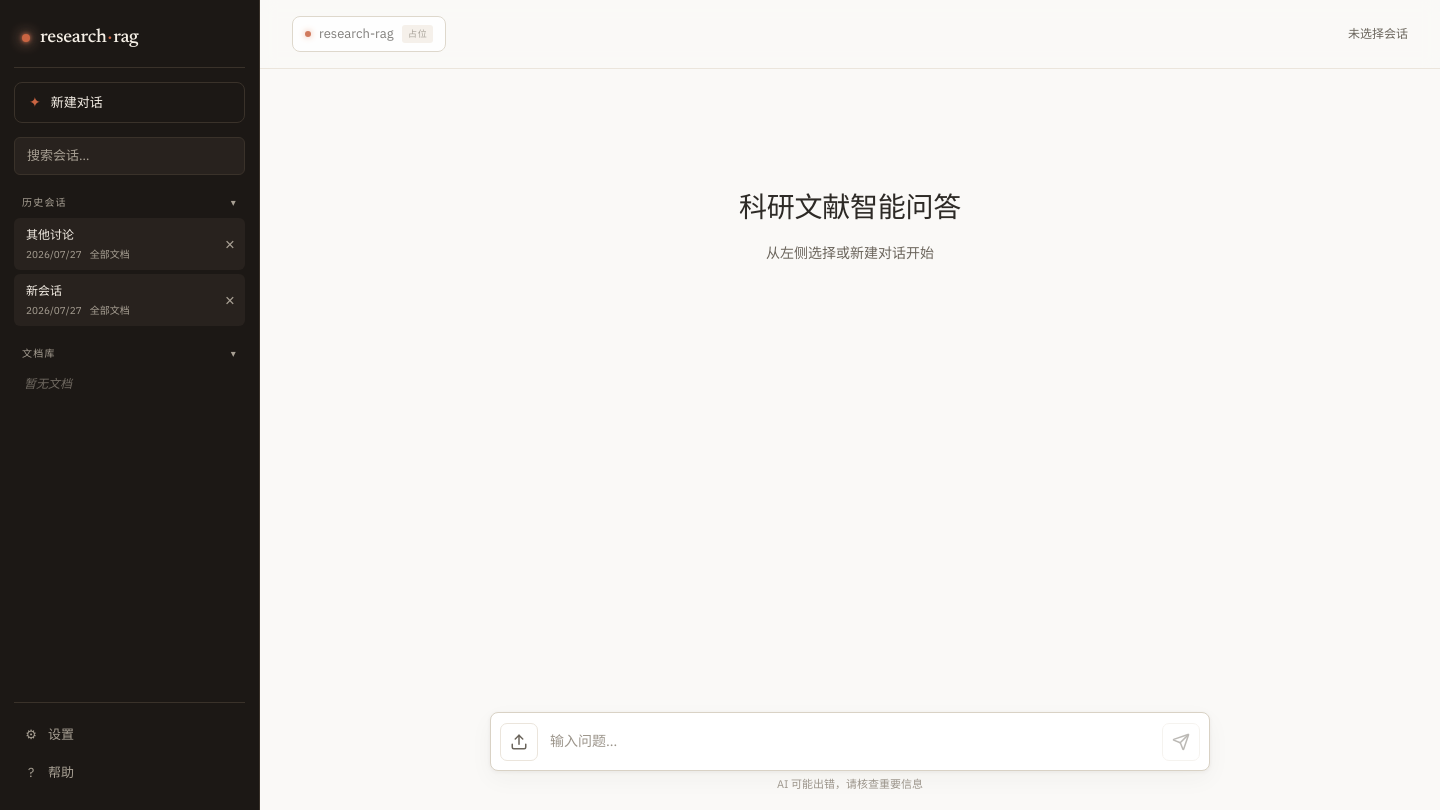
Test: App › 每轮成功持久化后立即刷新会话标题和排序
Click the button "新会话 2026/07/27 全部文档".
click(114, 300)  # box [15, 274, 212, 324]
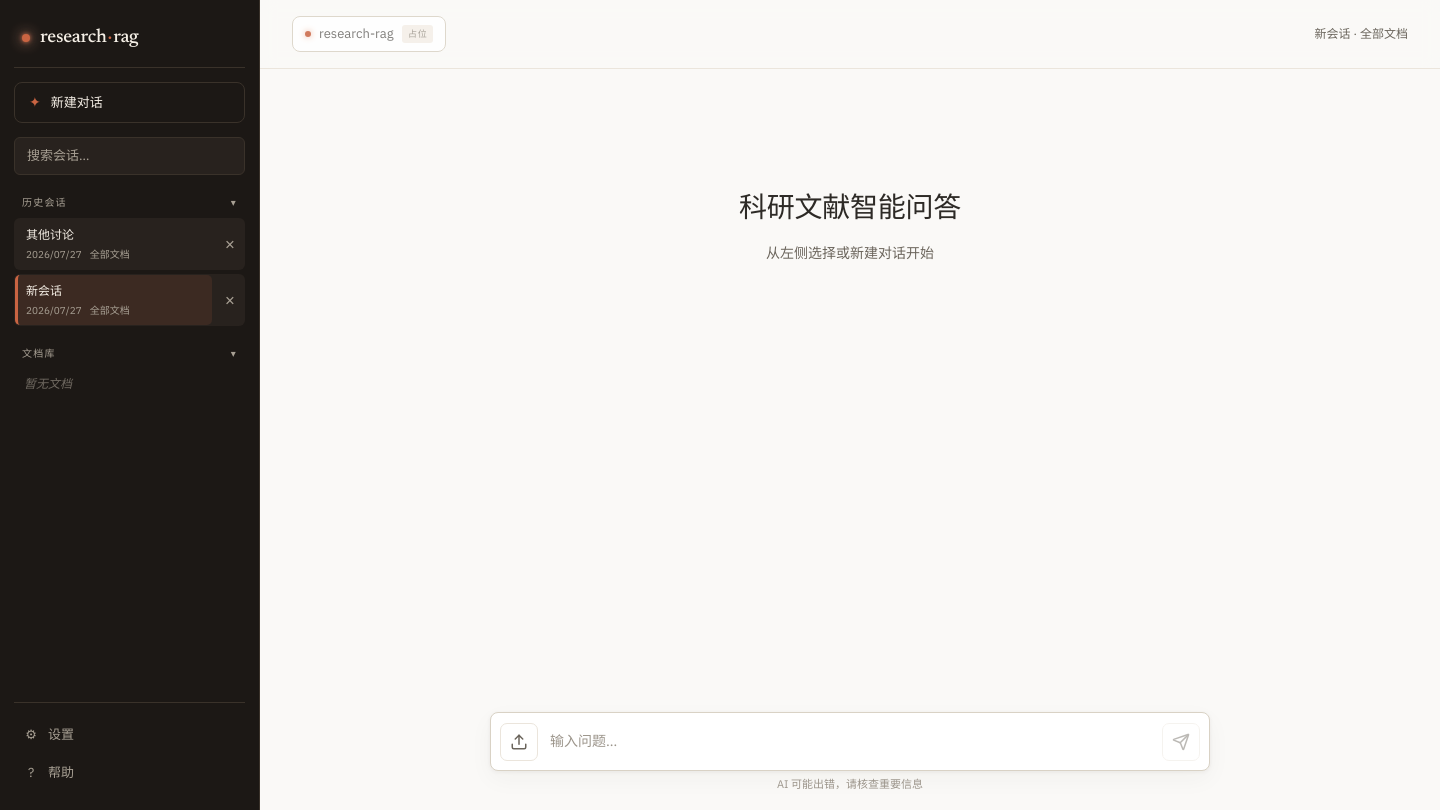
Type "标题问题" into the text box named "问题输入".
click(850, 741); type("标题问题")  # box [546, 722, 1154, 760]
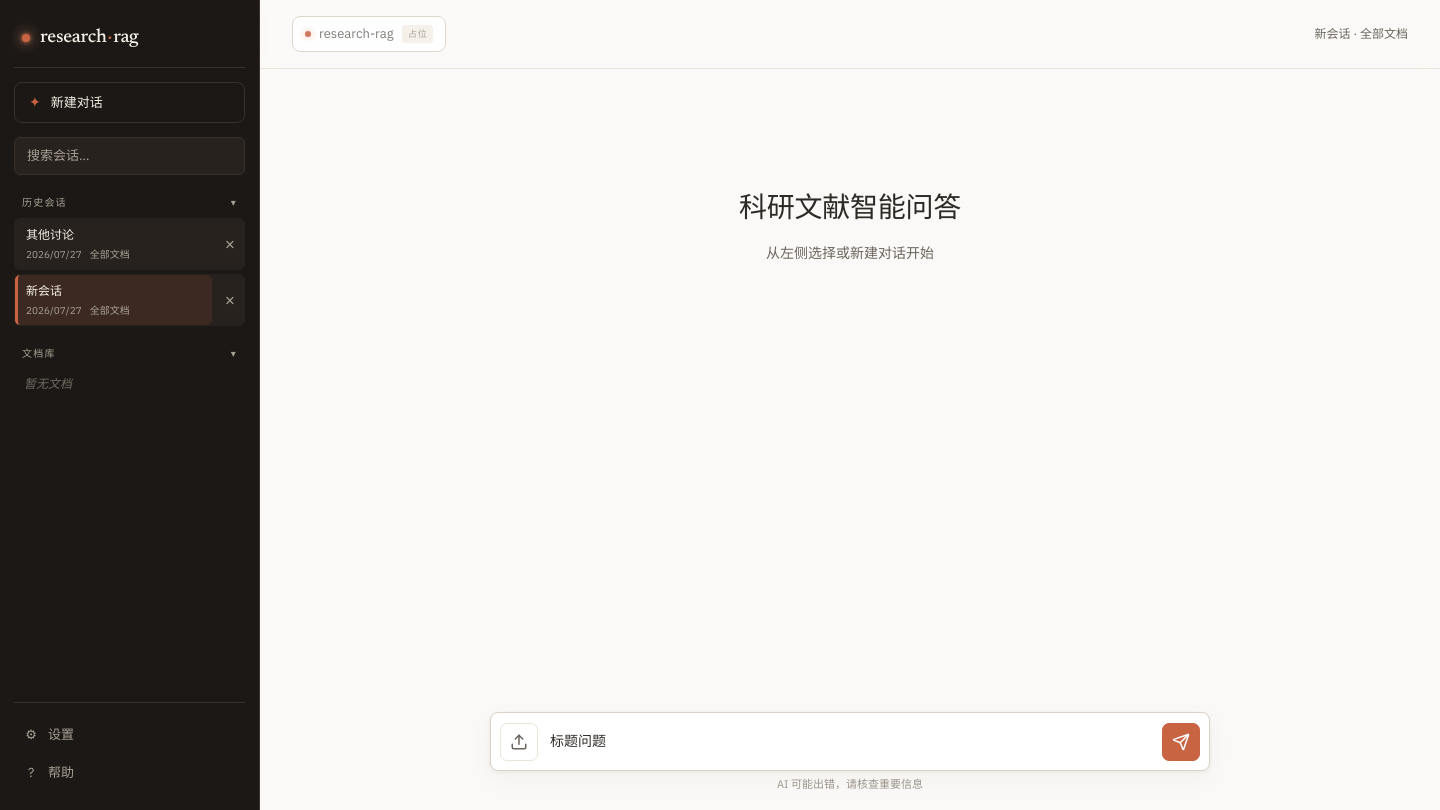
Click the button named "发送".
click(1181, 742)  # box [1162, 722, 1200, 760]
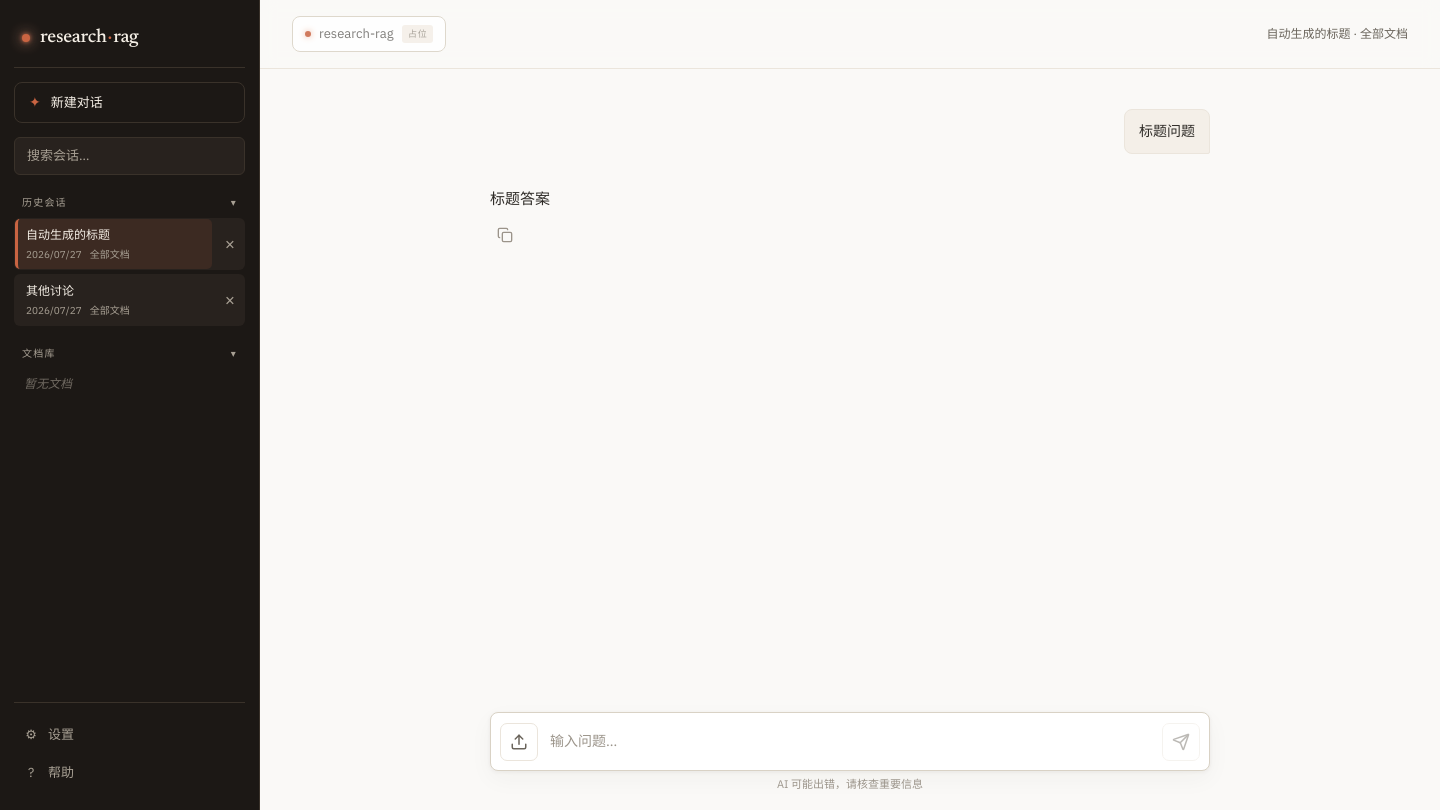
Expected: the element with test id "top-bar" shows "自动生成的标题", [1266, 26, 1408, 41]
